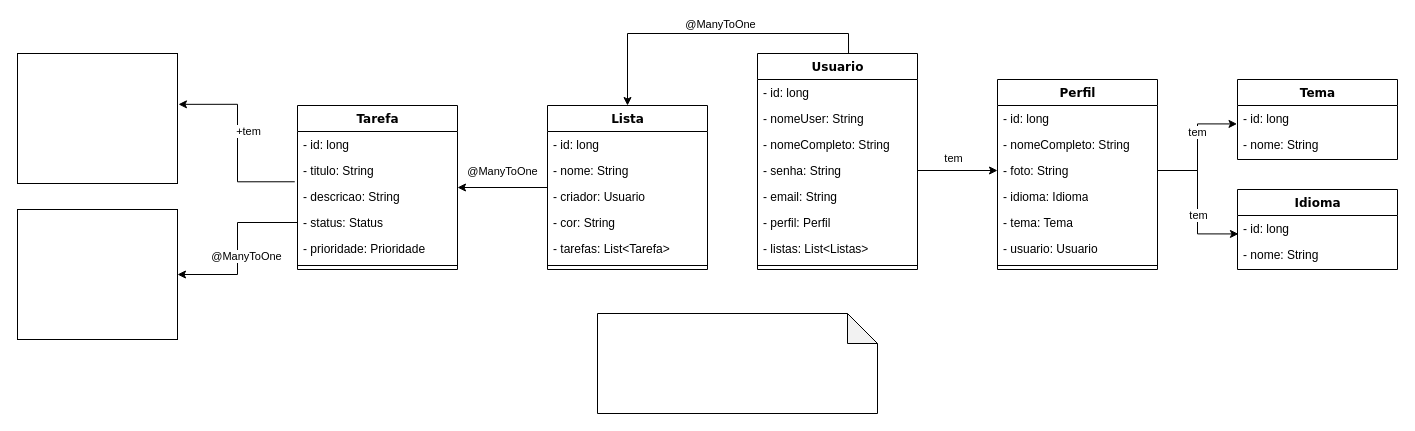
This 1415x431 diagram has some shape labels left out. Each missing label, with the centre of its shape:
<<enumeration>> Prioridade Baixa Média Alta: pixel 97 274
<<enumeration>> Status Pendente Em Progresso Concluído Cancelado: pixel 97 118
Implementar algum método/classe para compartilhar lista: pixel 737 363
